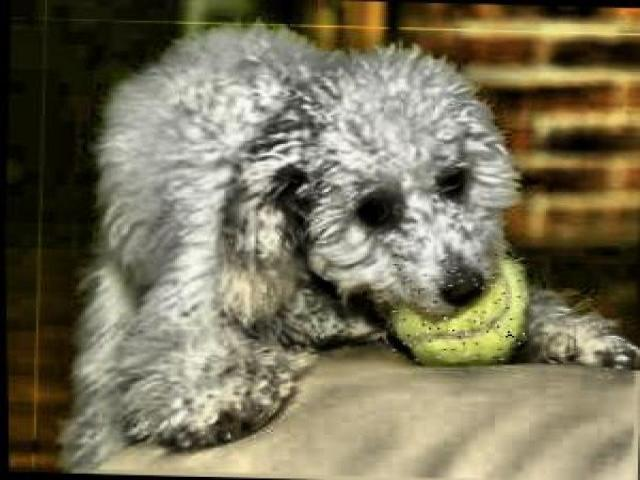tennis-ball: (392, 255, 529, 368)
